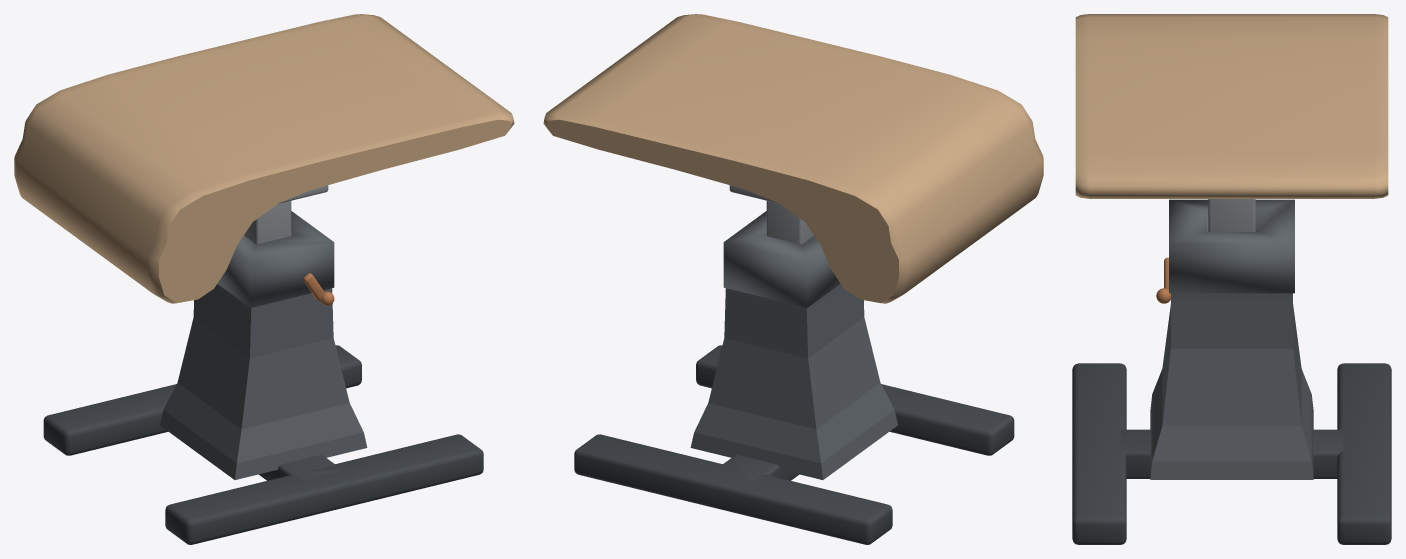
3 renders of one model, left to right at view 1: azimuth 30°, elevation 25°; view 2: azimuth 150°, elevation 25°; view 3: azimuth 270°, elevation 25°, orthographic. The views are drawn at different scales.
Visible parts, largest first — view 1: Padded curved vault top, Fixed flared padded pedestal, Low base runner, Upper cushion collar, Low base runner.001, Exposed inner post, Base cross member; view 2: Padded curved vault top, Fixed flared padded pedestal, Low base runner.001, Upper cushion collar, Low base runner, Exposed inner post, Base cross member; view 3: Padded curved vault top, Fixed flared padded pedestal, Upper cushion collar, Low base runner, Low base runner.001, Base cross member, Exposed inner post.
Part boxes in pixels (<box>): Padded curved vault top: <box>14,14,514,303</box>; Fixed flared padded pedestal: <box>160,284,367,479</box>; Low base runner: <box>165,434,483,544</box>; Upper cushion collar: <box>217,211,334,307</box>; Low base runner.001: <box>43,345,361,455</box>; Exposed inner post: <box>244,201,291,244</box>; Base cross member: <box>258,455,341,480</box>; Padded curved vault top: <box>543,14,1043,303</box>; Fixed flared padded pedestal: <box>690,284,897,479</box>; Low base runner.001: <box>574,434,892,544</box>; Upper cushion collar: <box>723,211,840,307</box>; Low base runner: <box>696,345,1014,455</box>; Exposed inner post: <box>766,201,813,244</box>; Base cross member: <box>723,455,799,480</box>; Padded curved vault top: <box>1075,14,1388,198</box>; Fixed flared padded pedestal: <box>1150,293,1313,479</box>; Upper cushion collar: <box>1169,199,1294,293</box>; Low base runner: <box>1072,363,1126,544</box>; Low base runner.001: <box>1337,363,1391,544</box>; Base cross member: <box>1120,429,1343,478</box>; Exposed inner post: <box>1208,199,1255,231</box>.
Size of the model in its own units: 1.35 by 1.25 by 0.94.
